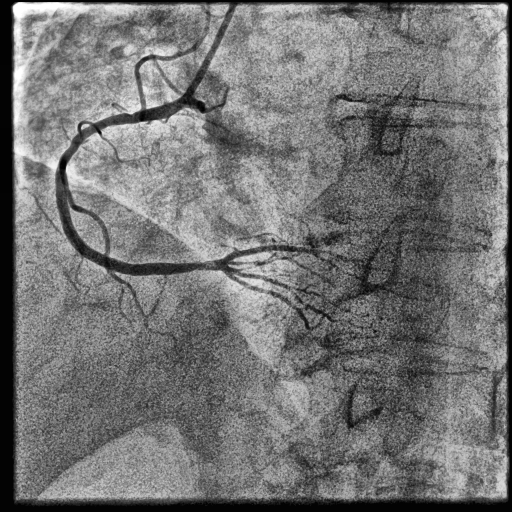pborca: (224, 245, 346, 264)
pda: (225, 266, 372, 329)
rca: (56, 93, 228, 275)
